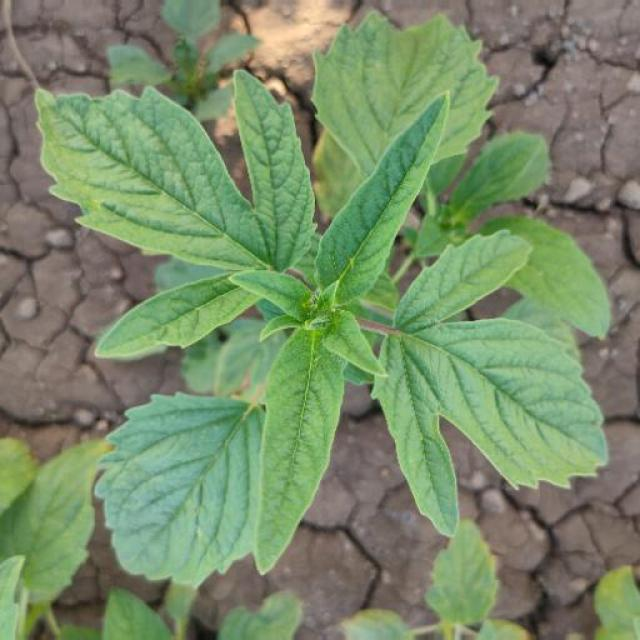crop: (37, 32, 608, 580)
